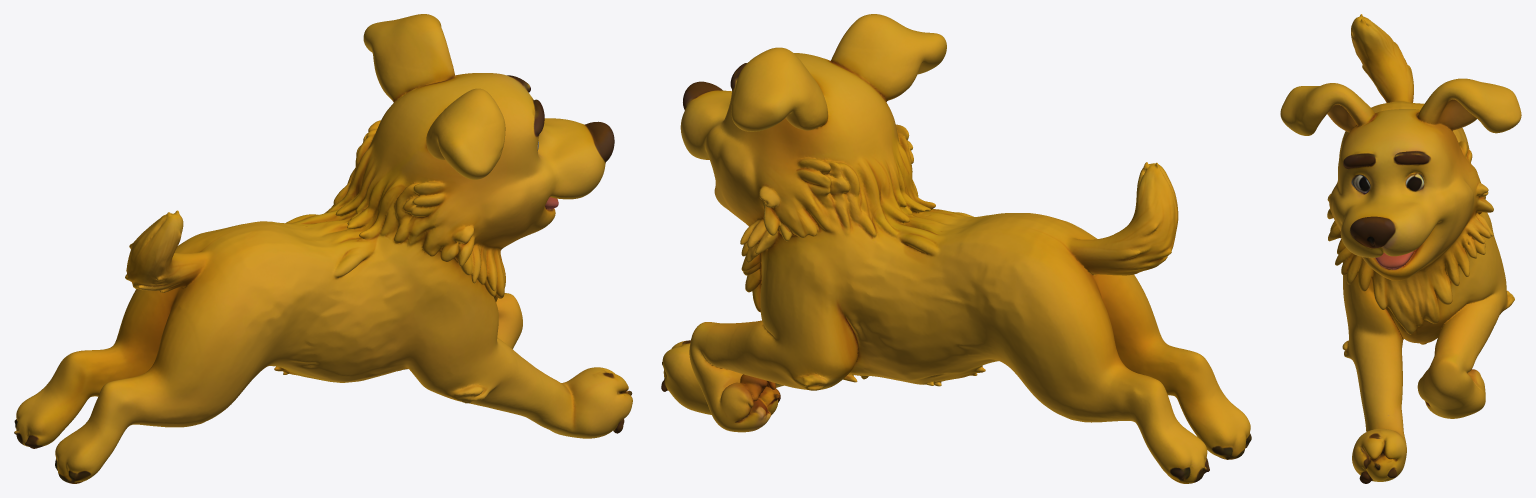
The model's file is sample_levitating_statue.glb.
The picture shows the model from 3 angles, left to right: view 1: azimuth 30°, elevation 25°; view 2: azimuth 150°, elevation 25°; view 3: azimuth 270°, elevation 25°; orthographic projection. The views are drawn at different scales.
Parts seen in each view (by area): view 1: tripo_node_aafc6805-1c9e-4931-a359-10f8c704d3f7; view 2: tripo_node_aafc6805-1c9e-4931-a359-10f8c704d3f7; view 3: tripo_node_aafc6805-1c9e-4931-a359-10f8c704d3f7.
Boxes of the visible parts, x1,y1,x2,y2 form: tripo_node_aafc6805-1c9e-4931-a359-10f8c704d3f7: (14,14,632,483); tripo_node_aafc6805-1c9e-4931-a359-10f8c704d3f7: (661,14,1251,483); tripo_node_aafc6805-1c9e-4931-a359-10f8c704d3f7: (1280,14,1521,483).
Size of the model in its own units: 1 by 0.6855 by 0.4277.
1 material, 1 textured.
